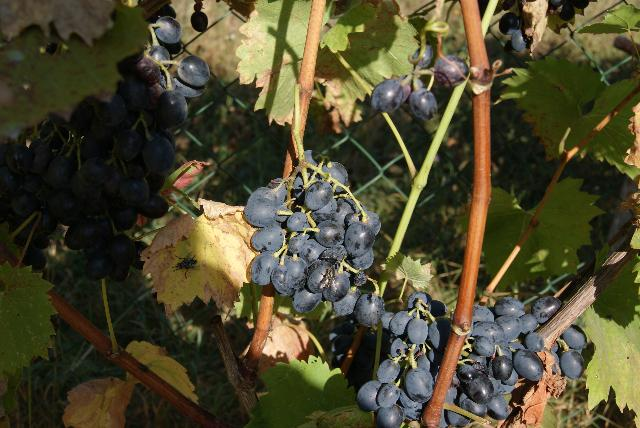grapes: (0, 44, 209, 280), (244, 151, 381, 325), (440, 298, 559, 428), (356, 291, 451, 428), (551, 325, 586, 380)
